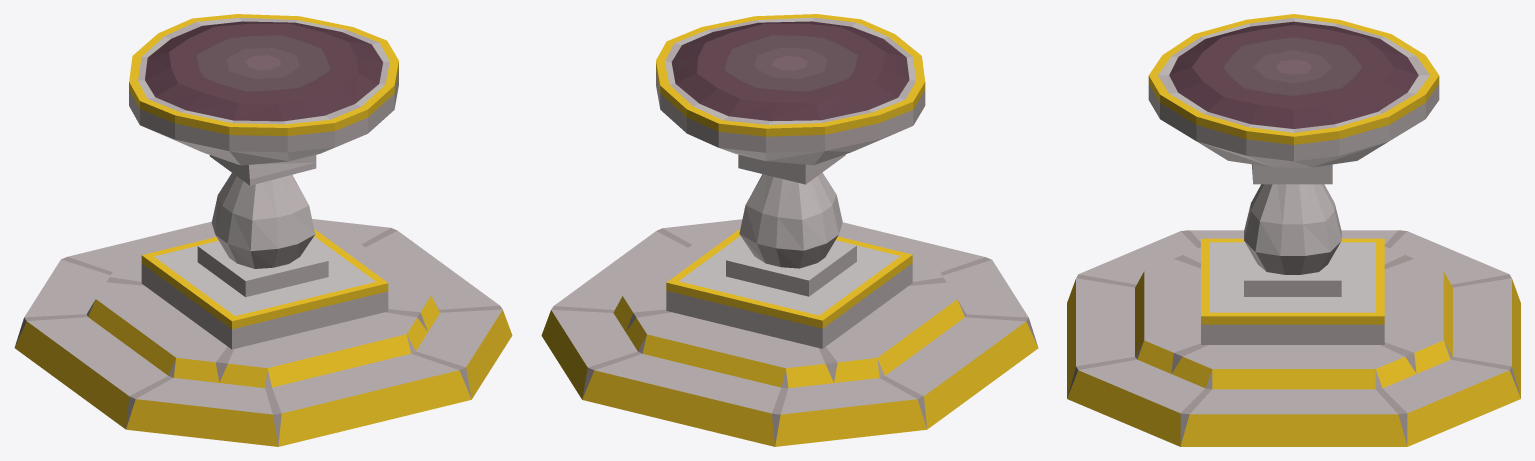
File: restoration-pools.gltf
The picture shows the model from 3 angles, left to right: view 1: azimuth 30°, elevation 25°; view 2: azimuth 150°, elevation 25°; view 3: azimuth 270°, elevation 25°; orthographic projection.
Size of the model in its own units: 200 by 138 by 200.
1 material, 1 textured.
